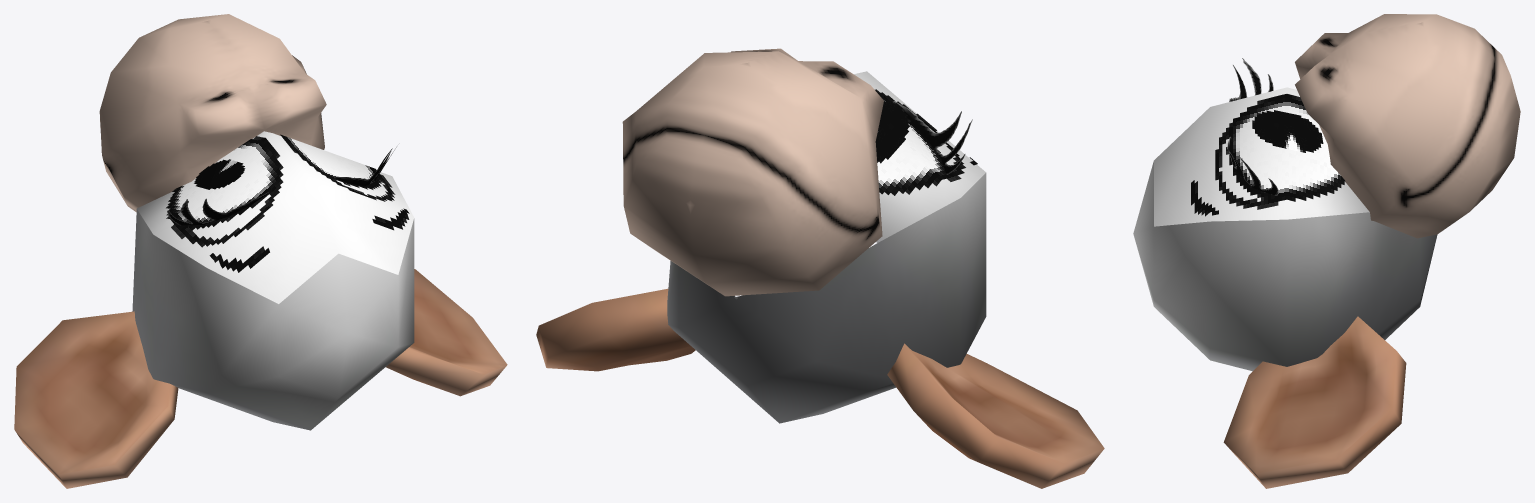
File: pss.glb
The picture shows the model from 3 angles, left to right: view 1: azimuth 30°, elevation 25°; view 2: azimuth 150°, elevation 25°; view 3: azimuth 270°, elevation 25°; orthographic projection. The views are drawn at different scales.
Visible parts, largest first — view 1: head-short, muzzle-short-neutral, ears-short, head-front-short, eyes-short, eyelashes, joint_pupilL_short; view 2: muzzle-short-neutral, head-short, ears-short, head-front-short, eyes-short, joint_pupilL_short, eyelashes; view 3: muzzle-short-neutral, head-short, ears-short, head-front-short, eyes-short, joint_pupilR_short, eyelashes.
Part boxes in pixels (x1,y1,x2,y2): head-short: (132,209,414,430); muzzle-short-neutral: (99,14,326,212); ears-short: (14,269,507,488); head-front-short: (137,131,414,303); eyes-short: (166,134,409,272); eyelashes: (167,147,396,225); joint_pupilL_short: (194,159,245,189); muzzle-short-neutral: (622,48,883,296); head-short: (667,173,986,423); ears-short: (536,288,1104,488); head-front-short: (854,71,985,242); eyes-short: (875,89,977,195); joint_pupilL_short: (875,100,910,163); eyelashes: (893,101,972,174); muzzle-short-neutral: (1295,14,1520,238); head-short: (1133,161,1437,371); ears-short: (1223,316,1406,488); head-front-short: (1154,87,1369,226); eyes-short: (1191,94,1345,216); joint_pupilR_short: (1252,110,1323,152); eyelashes: (1227,58,1278,195).
Bounding box in the file's own units: 1.75 × 1.31 × 1.26.
Materials: 6 (6 with a texture image).
